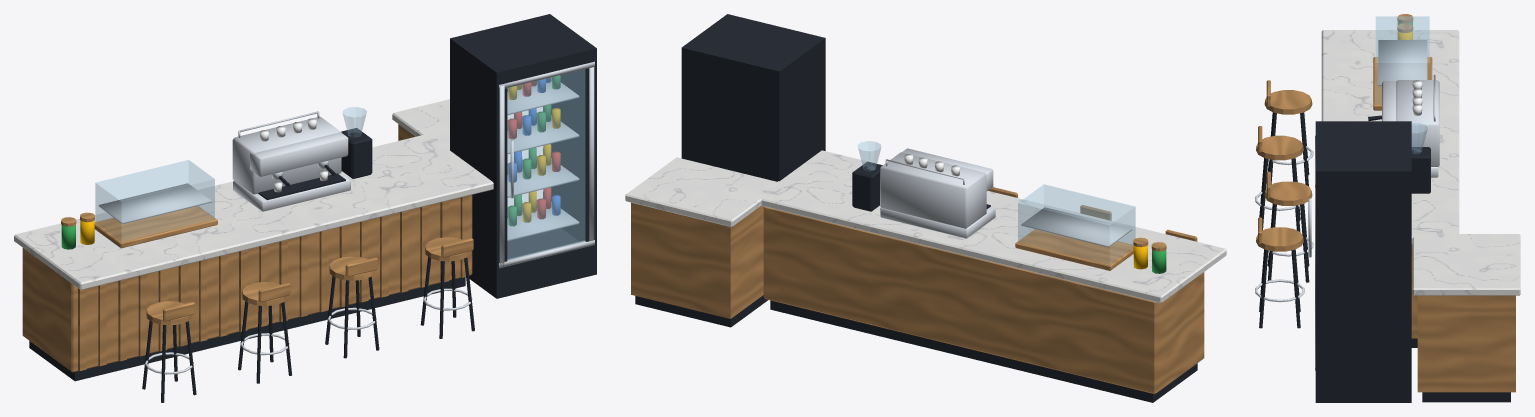
Rendered from prop_microkitchen_bar.glb.
3 views of the same model, side by side, from view 1: azimuth 30°, elevation 25°; view 2: azimuth 150°, elevation 25°; view 3: azimuth 270°, elevation 25° (orthographic). The views are drawn at different scales.
Visible parts, largest first — view 1: MK_WarmOak, MK_DarkSteel, MK_CarraraMarble, MK_CoolerGlass, MK_Chrome, MK_DrinksGreen, MK_DrinksYellow, MK_DrinksRed, MK_DrinksBlue, MK_Ceramics; view 2: MK_WarmOak, MK_DarkSteel, MK_CarraraMarble, MK_Chrome, MK_CoolerGlass; view 3: MK_DarkSteel, MK_CarraraMarble, MK_WarmOak, MK_Chrome, MK_CoolerGlass, MK_Ceramics.
Part boxes in pixels (x1=…): MK_WarmOak: x1=22, y1=124, x2=473, y2=372; MK_DarkSteel: x1=29, y1=14, x2=596, y2=402; MK_CarraraMarble: x1=14, y1=99, x2=493, y2=289; MK_CoolerGlass: x1=95, y1=69, x2=585, y2=260; MK_Chrome: x1=98, y1=61, x2=594, y2=374; MK_DrinksGreen: x1=61, y1=75, x2=560, y2=249; MK_DrinksYellow: x1=80, y1=84, x2=560, y2=244; MK_DrinksRed: x1=507, y1=81, x2=560, y2=219; MK_DrinksBlue: x1=507, y1=77, x2=560, y2=217; MK_Ceramics: x1=259, y1=118, x2=327, y2=192; MK_WarmOak: x1=631, y1=187, x2=1204, y2=393; MK_DarkSteel: x1=635, y1=14, x2=1197, y2=402; MK_CarraraMarble: x1=625, y1=150, x2=1226, y2=303; MK_Chrome: x1=880, y1=148, x2=1132, y2=247; MK_CoolerGlass: x1=857, y1=141, x2=1135, y2=264; MK_DarkSteel: x1=1259, y1=112, x2=1510, y2=402; MK_CarraraMarble: x1=1321, y1=30, x2=1520, y2=295; MK_WarmOak: x1=1256, y1=14, x2=1515, y2=392; MK_Chrome: x1=1255, y1=40, x2=1439, y2=370; MK_CoolerGlass: x1=1375, y1=16, x2=1429, y2=153; MK_Ceramics: x1=1412, y1=80, x2=1422, y2=115.
Bounding box in the file's own units: 4.99 × 2.08 × 2.16.
11 materials, 2 textured.
